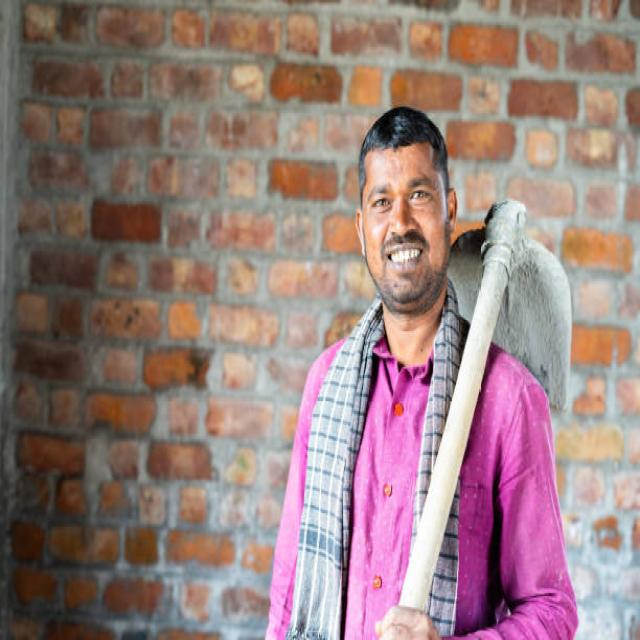without_helmet: (354, 102, 470, 316)
